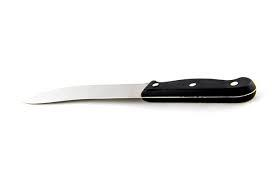Knife: (24, 76, 256, 104)
